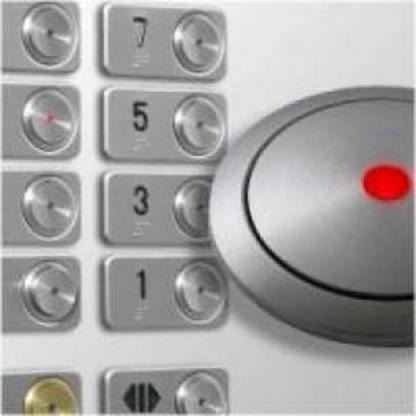1: (95, 249, 230, 333)
3: (96, 168, 219, 249)
5: (96, 85, 232, 165)
7: (99, 0, 231, 84)
empty: (0, 252, 83, 336), (0, 80, 82, 160), (0, 0, 84, 77), (0, 168, 82, 245)
open: (98, 360, 232, 415)
